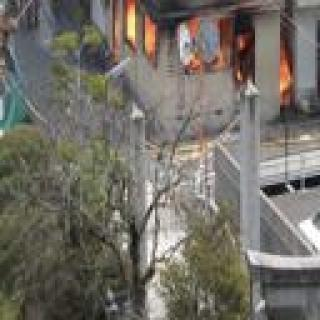fire: (85, 0, 316, 113)
